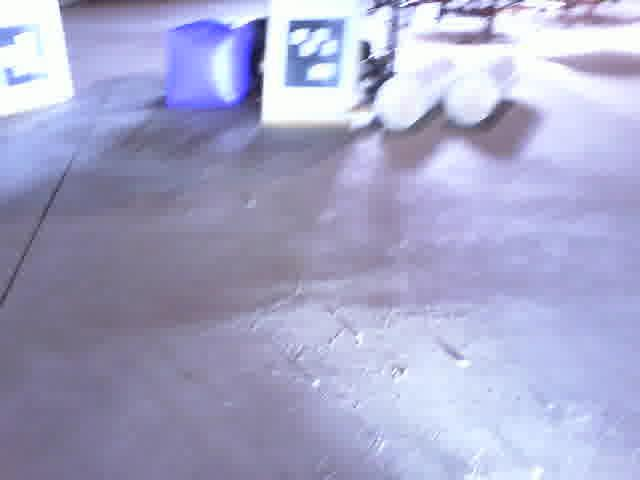coral: (375, 50, 460, 134), (444, 50, 527, 128)
